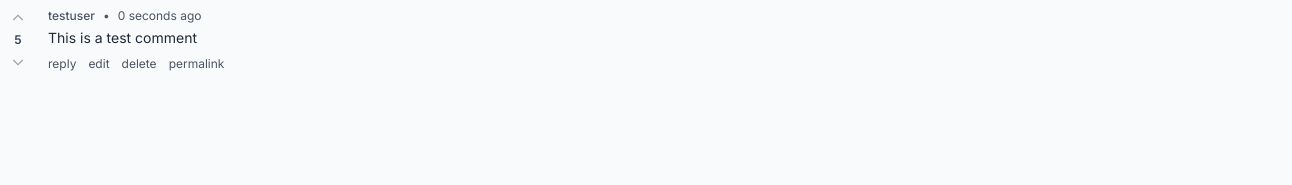
Test case: CommentItem - Focus Feature › Integration with Other Features › should not show permalink when comment is being edited
Note: Click edit button
Click the button "edit": point(99, 64) [88,56,110,72]
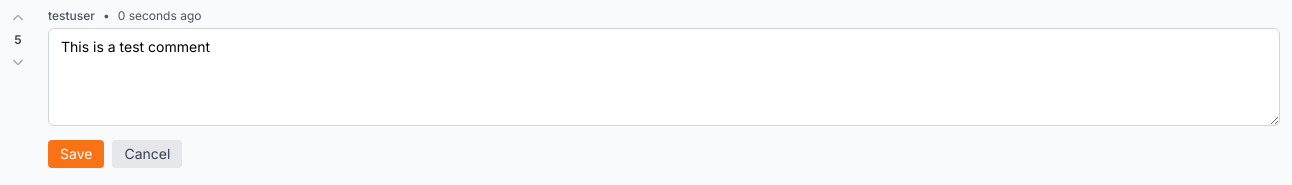
Check: the button "permalink" is gone
